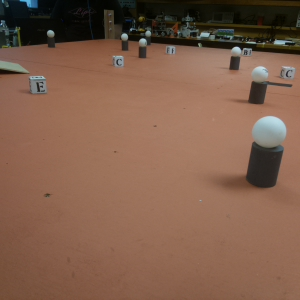blockB: (244, 47, 253, 57)
blockC: (281, 64, 295, 79), (111, 55, 126, 67)
blockE: (29, 74, 48, 95)
blockF: (165, 45, 176, 55)
corner: (104, 8, 114, 38)
obstacle: (247, 114, 286, 191), (250, 65, 267, 104), (137, 37, 149, 60), (229, 47, 240, 71), (46, 29, 56, 47), (119, 31, 128, 50), (144, 29, 153, 44)
slope: (1, 60, 27, 74)
start: (263, 78, 294, 90)
